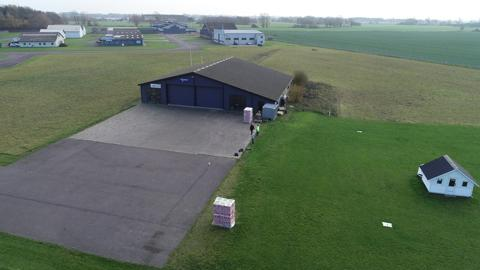RockwoolPallet: (243, 106, 253, 124)
